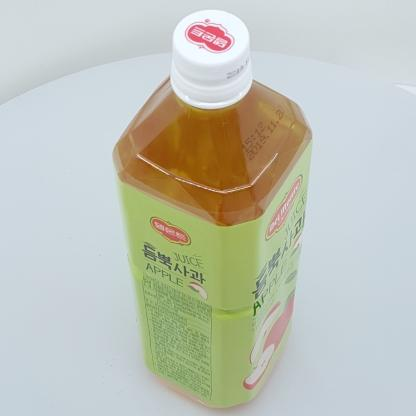----------1L: (113, 9, 312, 409)
